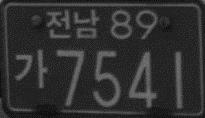1: (171, 49, 186, 111)
4: (127, 49, 156, 108)
5: (91, 49, 122, 107)
7: (52, 49, 86, 107)
8: (109, 9, 132, 39)
9: (136, 9, 157, 40)
가: (15, 49, 48, 88)
전남_O: (45, 9, 100, 39)
